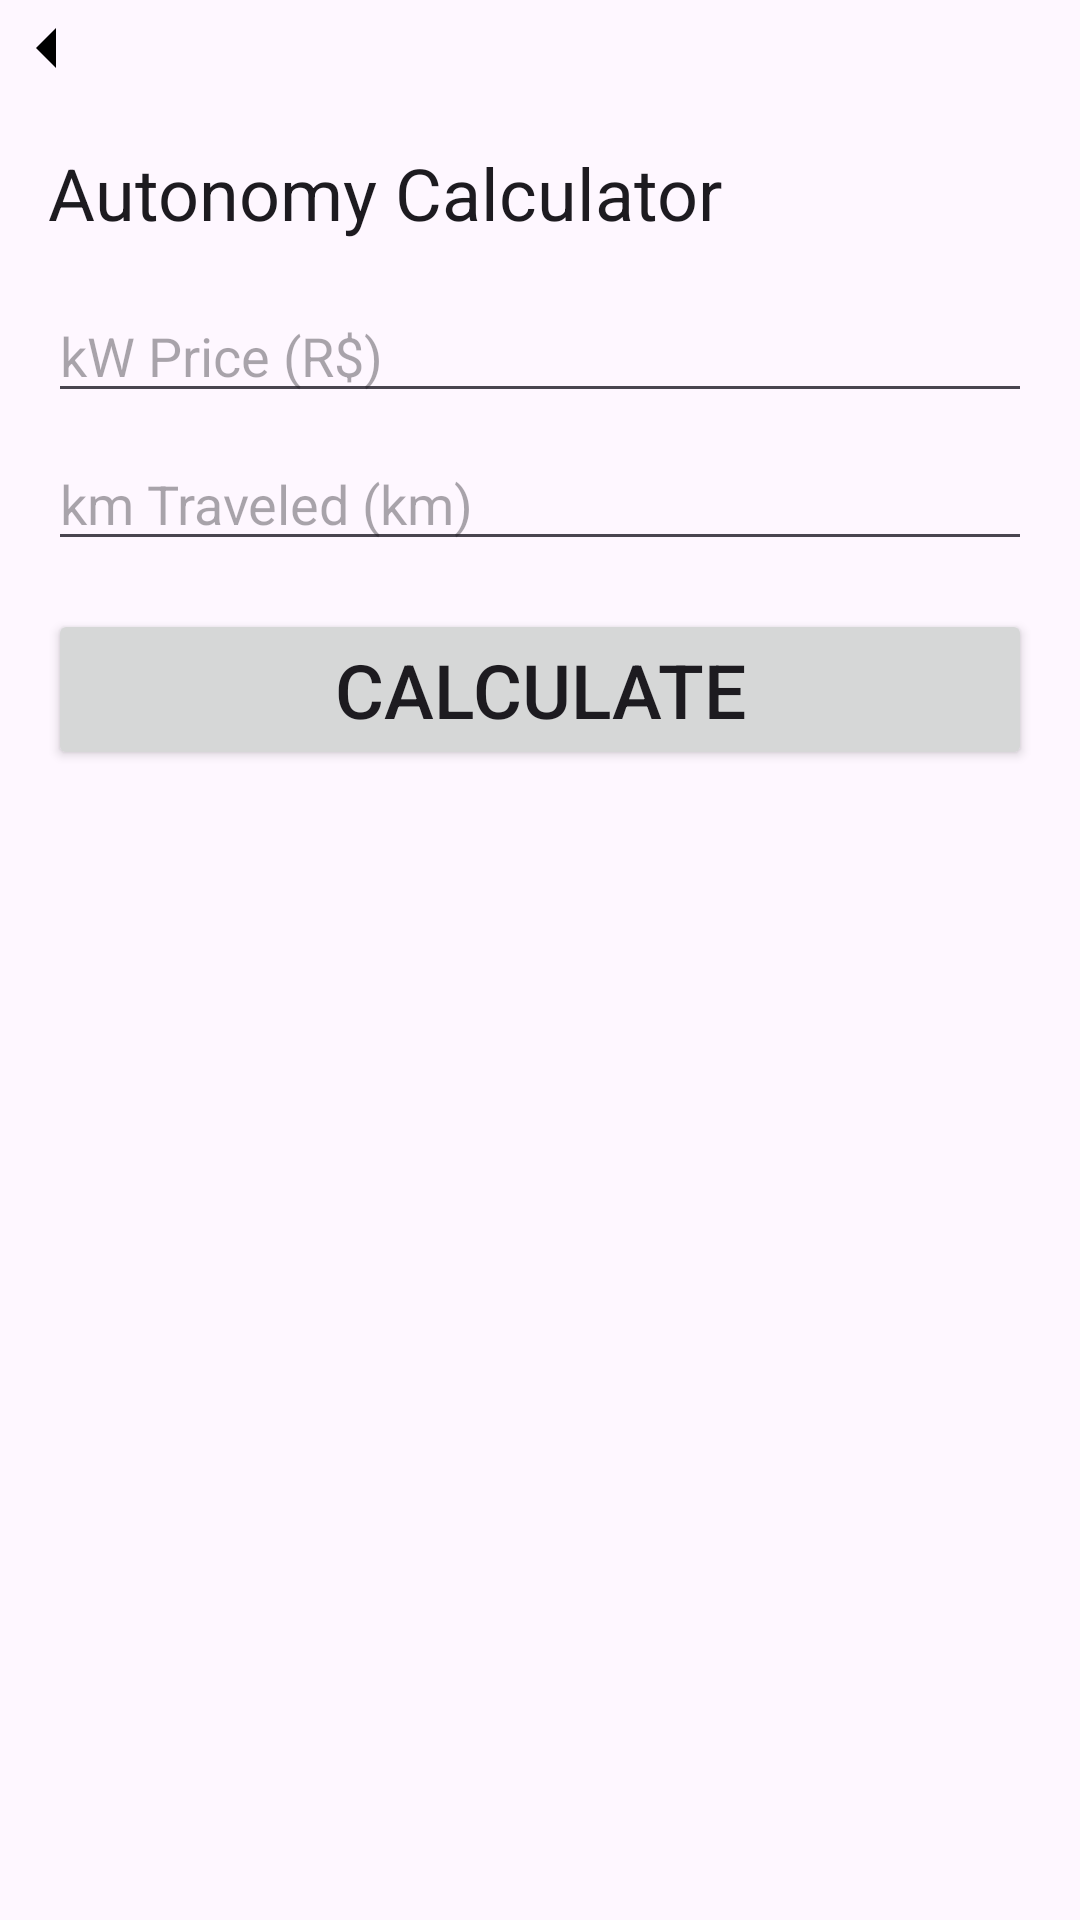

Icons on this 1080x1920 Android screen, each with the point to tap as (x,y):
arrow left: (46,48)
